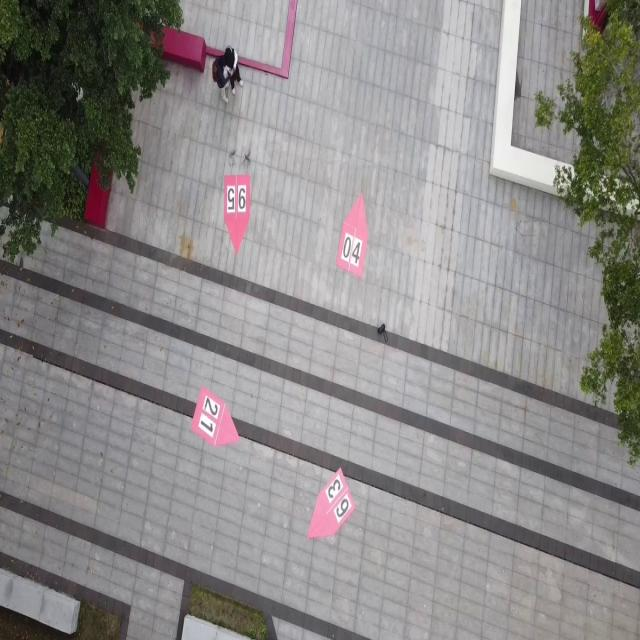-sign-: (307, 466, 358, 545), (192, 381, 241, 459), (219, 168, 260, 259), (338, 186, 372, 279)
